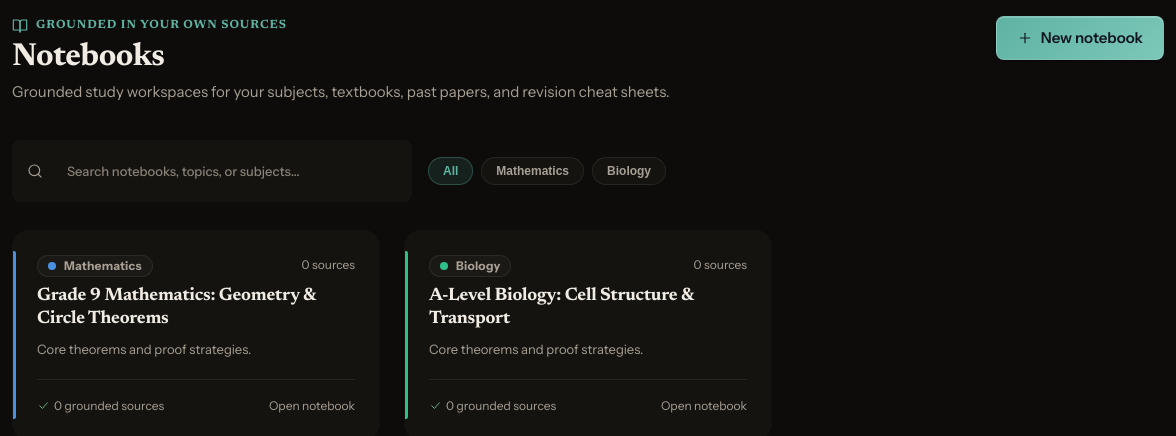
NotebooksHubView › filters notebooks based on search query
The width and height of the screenshot is (1176, 436).
Expected: the heading "Grade 9 Mathematics: Geometry & Circle Theorems" is shown, x1=37 y1=285 x2=355 y2=332
Type "Biology" into the field with placeholder "Search notebooks, topics, or subjects…" at (224, 171), box x1=51 y1=151 x2=397 y2=191
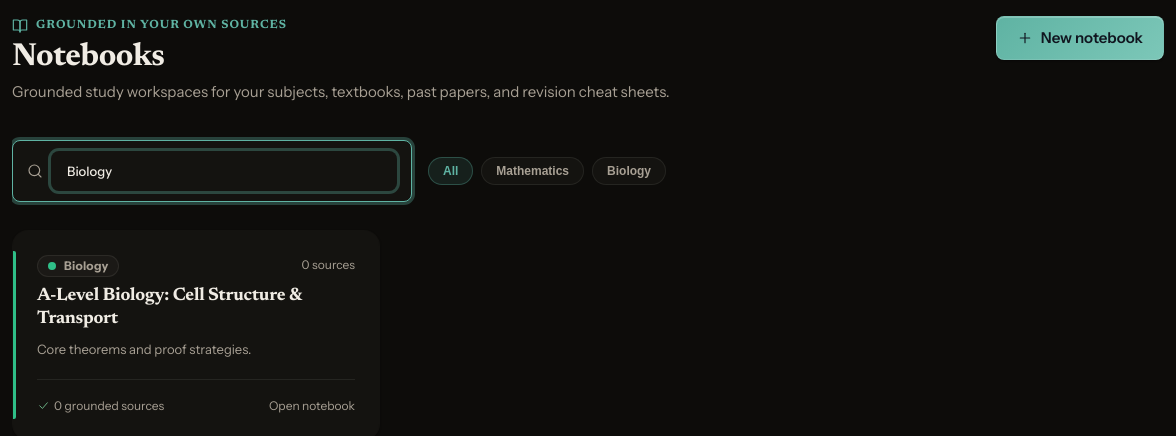
Expected: the heading "A-Level Biology: Cell Structure & Transport" is shown, x1=37 y1=287 x2=302 y2=328
Now the button "Grade 9 Mathematics" is gone
